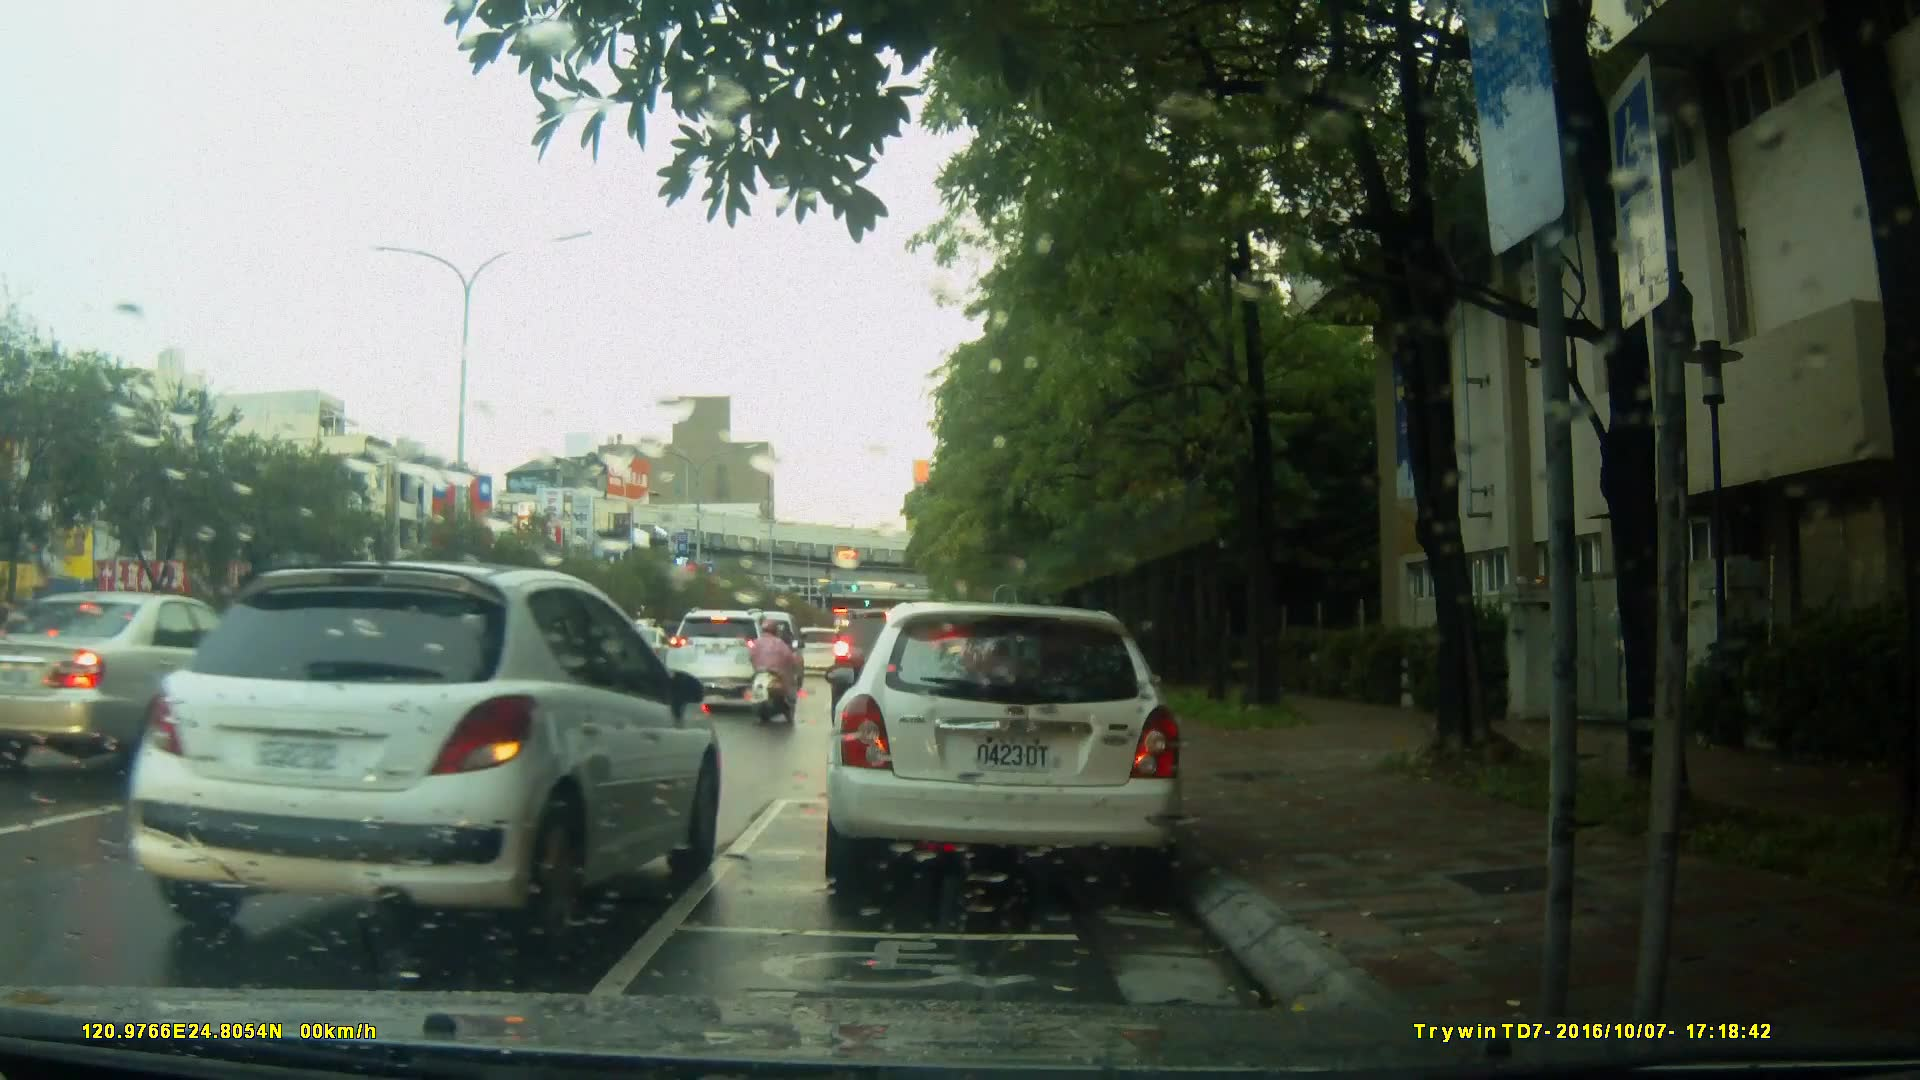rider: (742, 612, 793, 730)
vehicle: (123, 557, 724, 954), (820, 602, 1188, 898), (5, 589, 320, 775), (666, 608, 790, 714)
